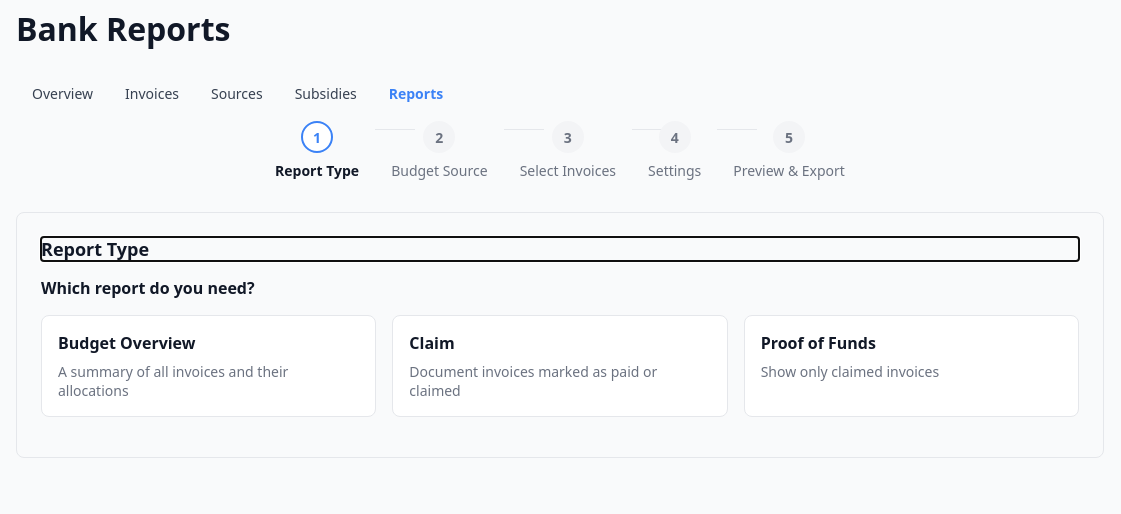
Test: ReportWizardPage › defaults a source's step-2 amount to 0 when its own report fetch fails, without blocking the others
expect the element named "Which report do you need?" is shown: met, box [41,315,1079,417]
Click the radio button labelled "Claim Document invoices marked as paid or claimed". click: (560, 366)
box: [392,315,728,417]
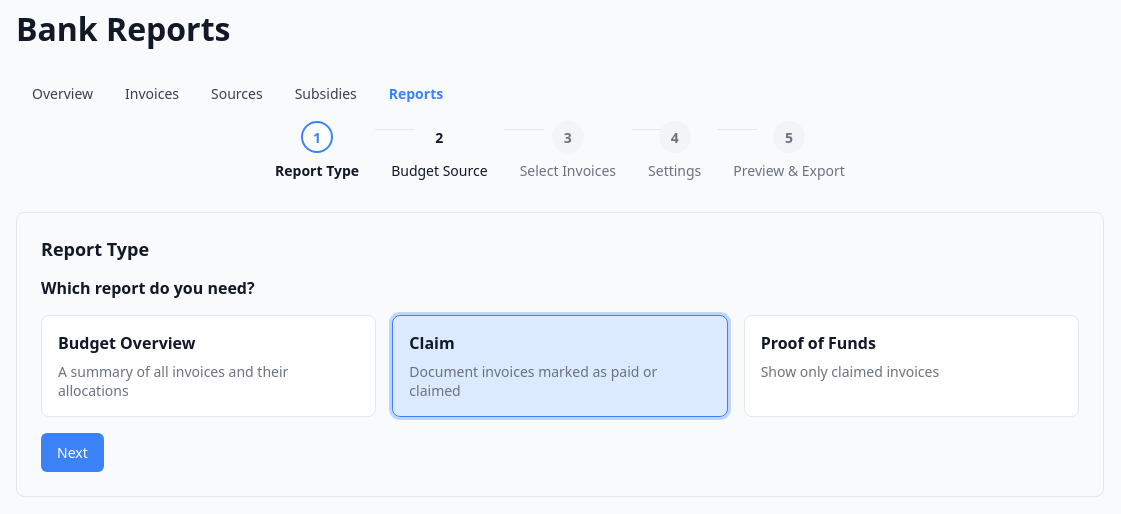
Click the button "Next". click: (72, 452)
box: [41,433,104,472]
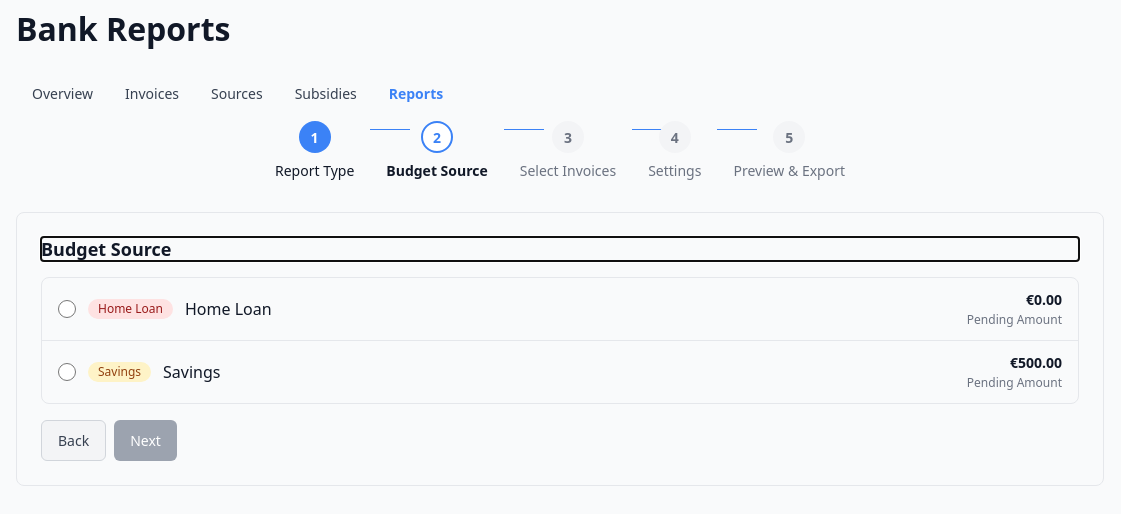
expect the number of radio buttons is 2: met, box [58,300,76,318]; [58,363,76,381]
